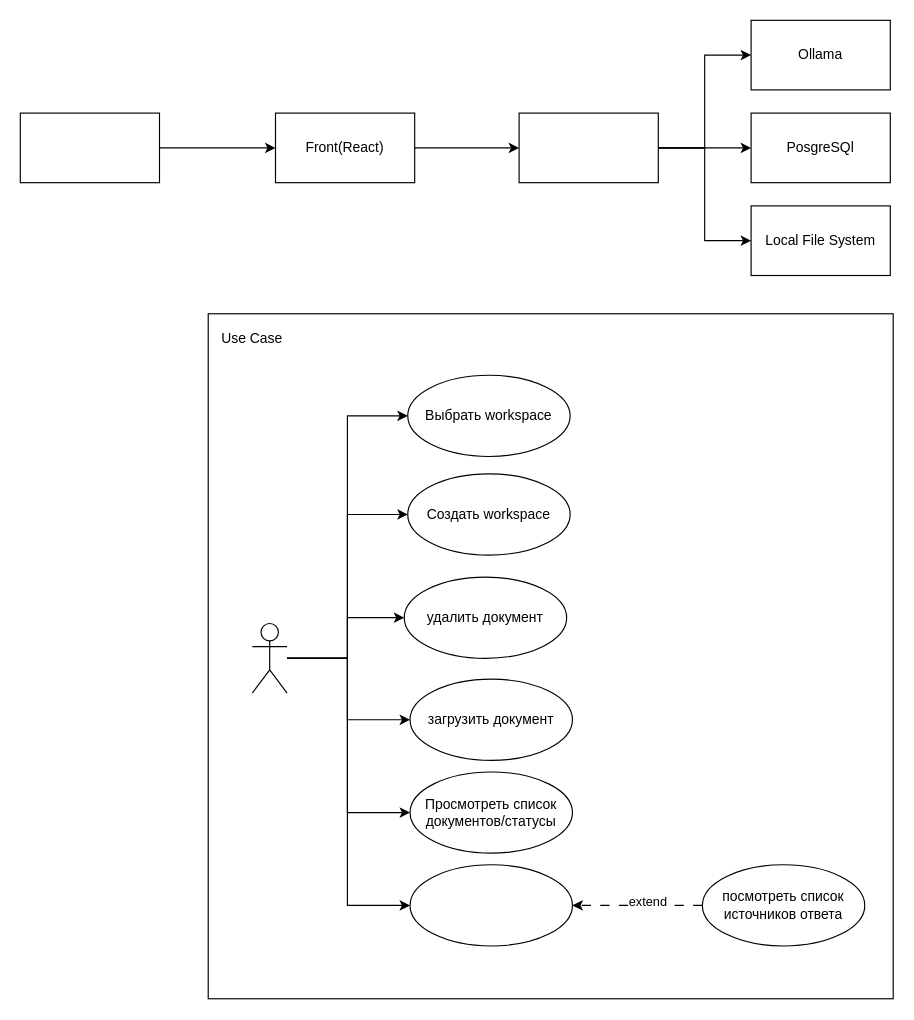
This 914x1020 diagram has some shape labels left out. Each missing label, with the box of its shape:
Back(FastAPI): (518, 112, 658, 183)
User: (19, 112, 160, 183)
задать вопрос по документам: (409, 864, 572, 946)
Пользователь: (251, 622, 287, 693)
